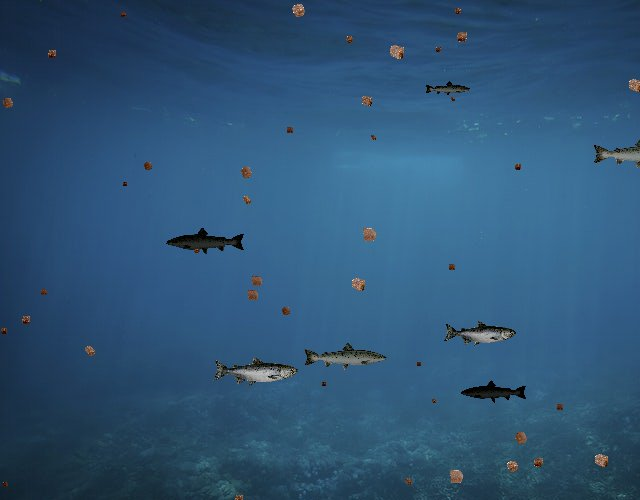Fish: (302, 341, 388, 372), (212, 356, 298, 387), (165, 226, 246, 255), (444, 321, 517, 347), (592, 137, 640, 171), (461, 380, 529, 404), (425, 81, 472, 98)
Pellet: (508, 425, 534, 451), (500, 454, 525, 479), (78, 340, 100, 362), (510, 160, 524, 174), (432, 44, 445, 57), (117, 9, 129, 21)
